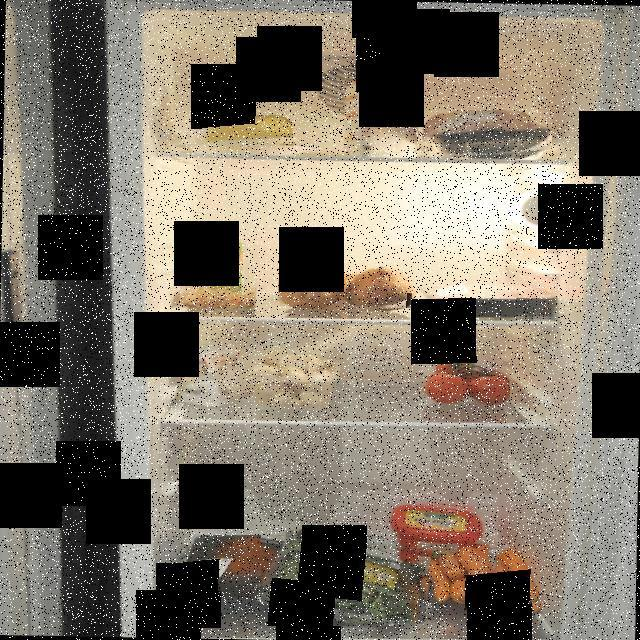Beef: (179, 535, 301, 597), (414, 280, 558, 320)
Butter stick/block: (388, 501, 485, 559)
Carrot: (421, 544, 548, 615)
Cheese: (202, 112, 299, 152)
Chicken: (416, 110, 552, 160)
Cream: (208, 236, 244, 300)
Flour: (181, 334, 254, 409)
Mushroom: (254, 349, 340, 409)
Shrimp: (181, 284, 255, 308)
Spinach bagged/loose: (261, 532, 432, 626)
Sugar: (344, 80, 422, 158)
Sweet Potato: (278, 263, 416, 314)
Tomato: (418, 353, 511, 407)
